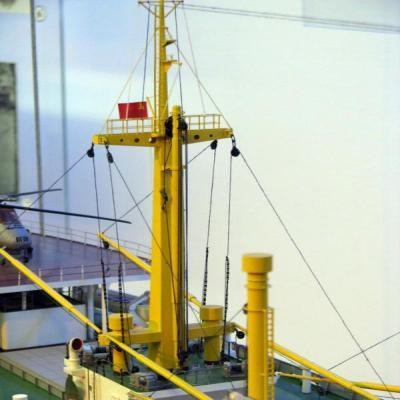other: (0, 0, 381, 400)
